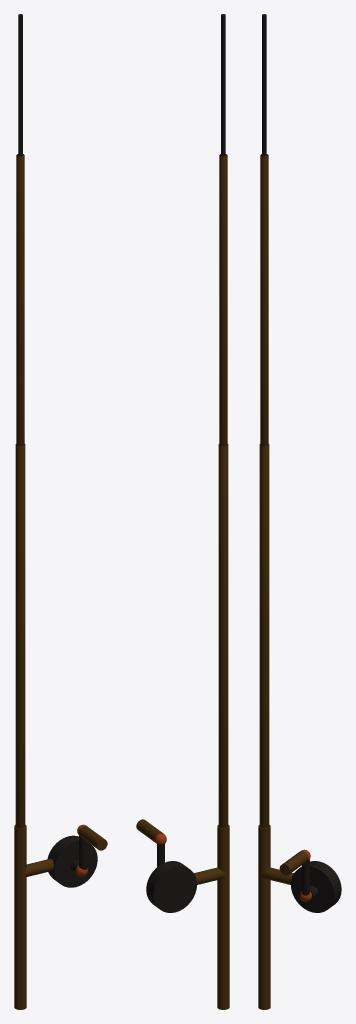
Rendered from fishingrod.fbx.
The picture shows the model from 3 angles, left to right: view 1: azimuth 30°, elevation 25°; view 2: azimuth 210°, elevation 25°; view 3: azimuth 330°, elevation 25°; orthographic projection.
Visible parts, largest first — view 1: Цилиндр.007; view 2: Цилиндр.007; view 3: Цилиндр.007.
Part boxes in pixels (left/top/right/bottom): Цилиндр.007: left=14, top=14, right=107, bottom=1009; Цилиндр.007: left=136, top=14, right=229, bottom=1009; Цилиндр.007: left=258, top=14, right=341, bottom=1009.
Bounding box in the file's own units: 1476 × 17736 × 1110.
